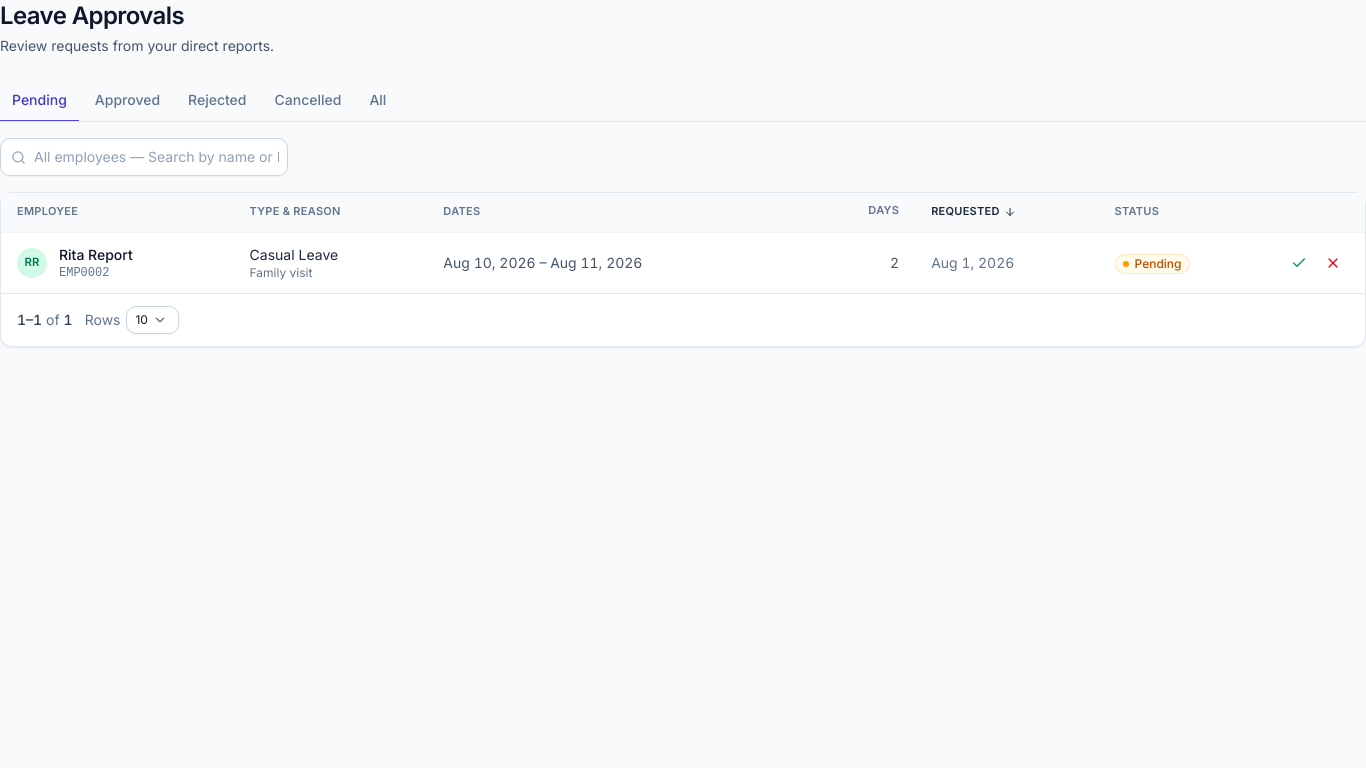
Test: LeaveApprovalsPage › shows the server error inside the dialog when a decision is rejected (e.g. already actioned)
The width and height of the screenshot is (1366, 768).
Click the button named "reject request from rita" at (1333, 262), box [1317,246,1349,278]
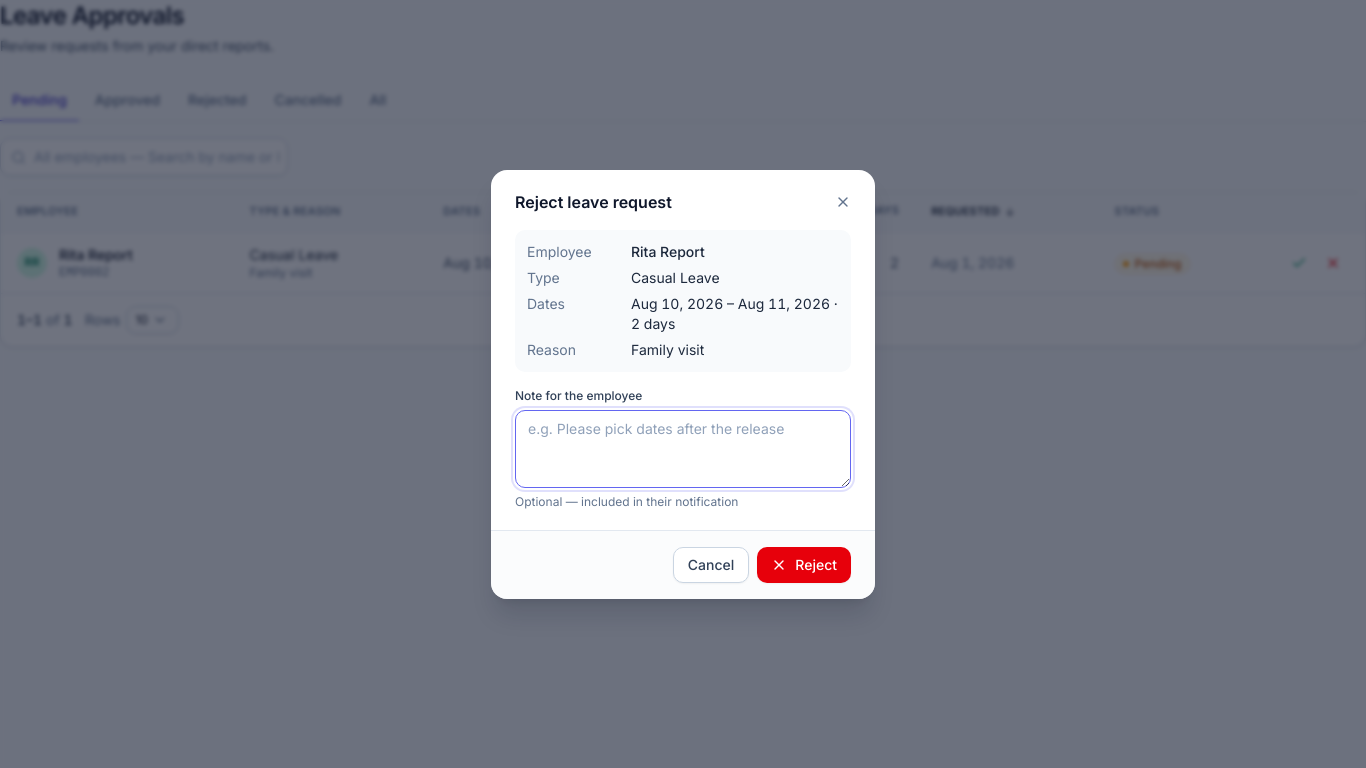
Click the button "Reject" at (804, 564), box [757,546,851,582]
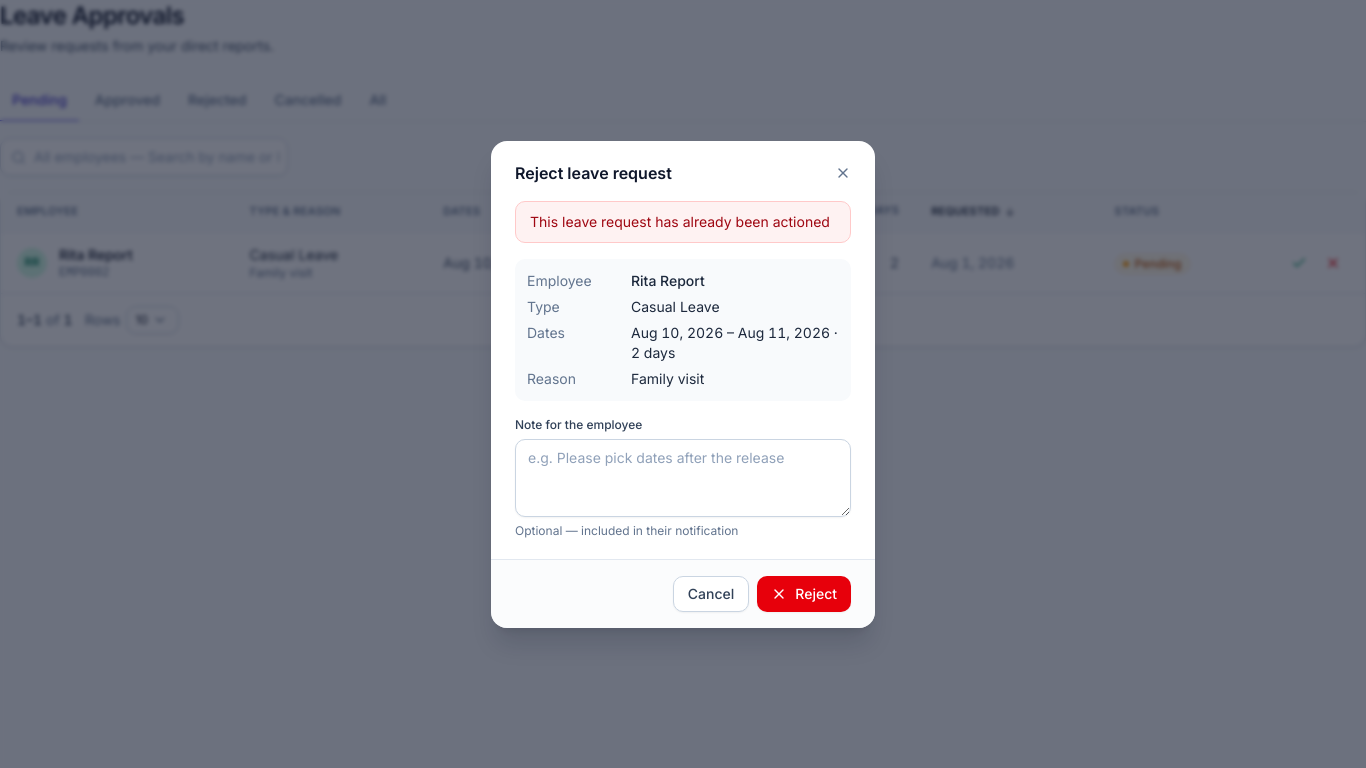
Result: the dialog is shown at [491,140,875,628]
Result: the message shows "already been actioned" at [530,212,830,230]
